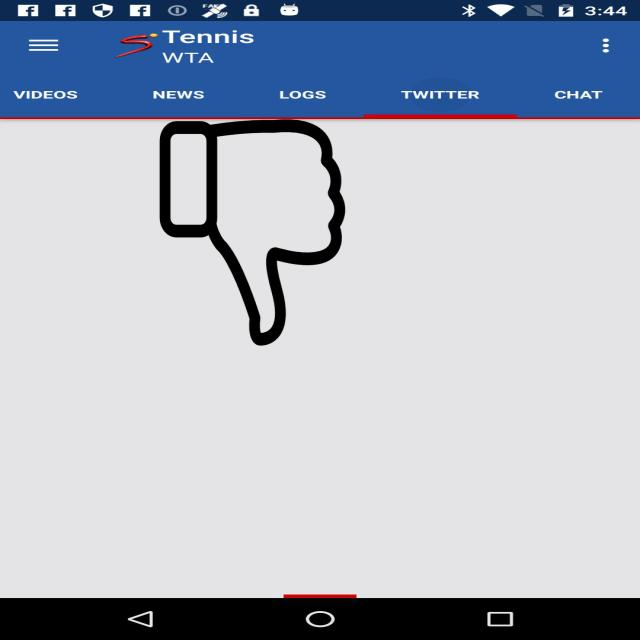obstruction: (157, 119, 348, 346)
